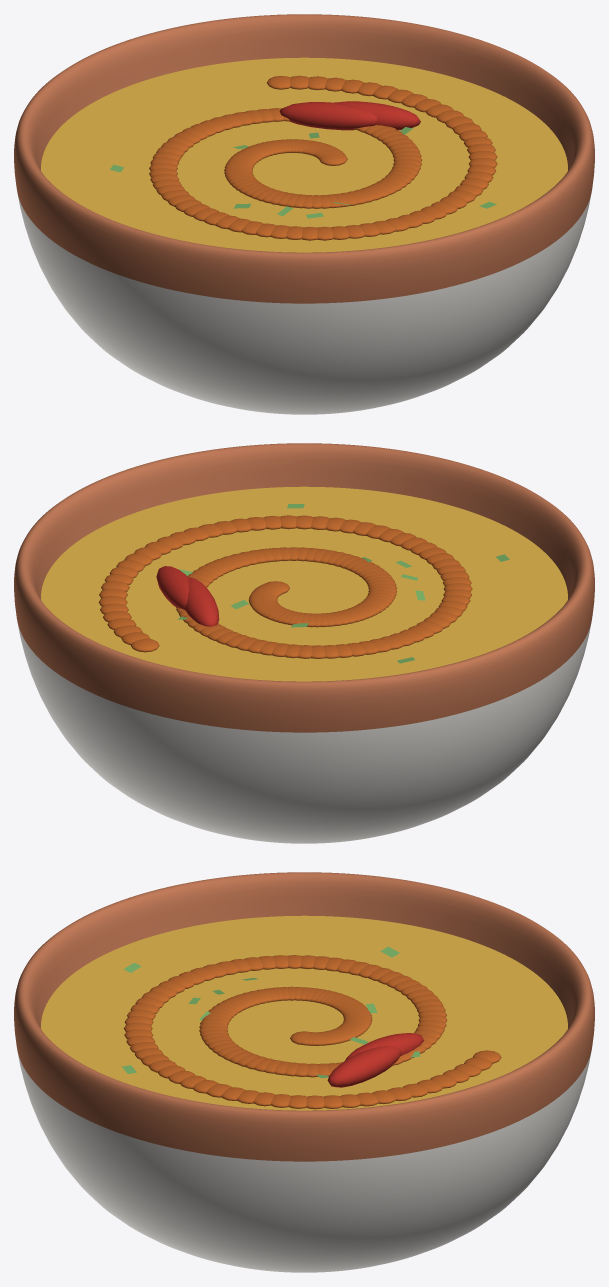
Rendered from soup_bowl.glb.
3 views of the same model, one above another, from view 1: azimuth 30°, elevation 25°; view 2: azimuth 150°, elevation 25°; view 3: azimuth 270°, elevation 25° (orthographic).
Parts seen in each view (by area): view 1: SoupBowl; view 2: SoupBowl; view 3: SoupBowl.
Part boxes in pixels (x1=…): SoupBowl: x1=14, y1=14, x2=594, y2=414; SoupBowl: x1=14, y1=443, x2=594, y2=843; SoupBowl: x1=14, y1=872, x2=594, y2=1272.
Size of the model in its own units: 0.1395 by 0.0593 by 0.1395.
